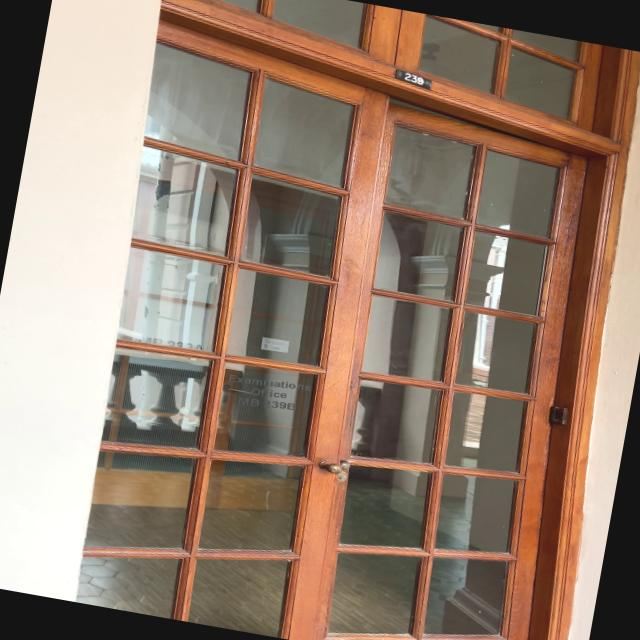room239: (389, 66, 434, 92)
